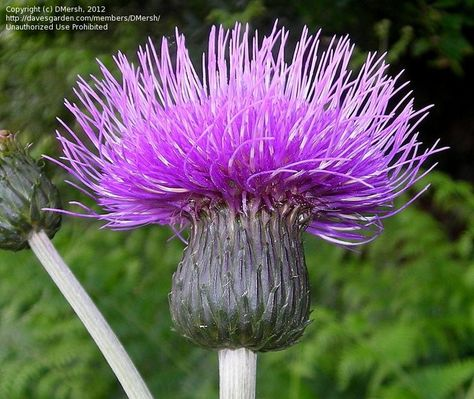thistle: (40, 19, 449, 349)
